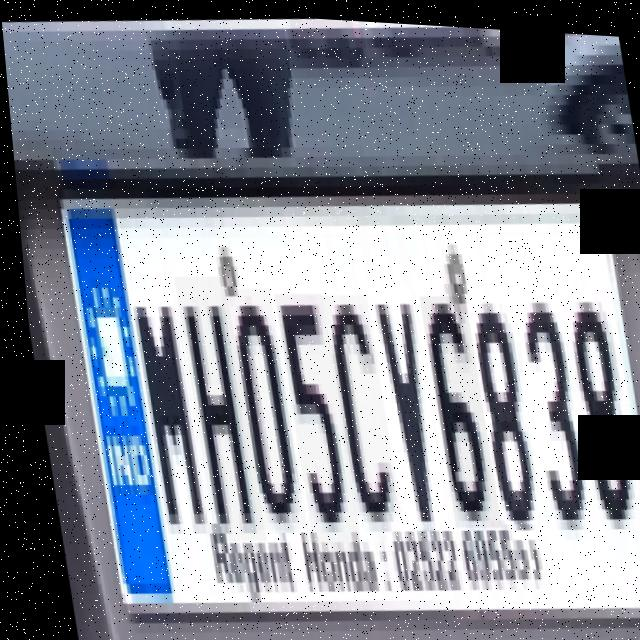0: (214, 282, 298, 529)
3: (506, 277, 585, 517)
5: (268, 287, 354, 559)
6: (414, 288, 492, 525)
8: (559, 285, 635, 535), (461, 287, 537, 520)
C: (315, 288, 392, 514)
H: (168, 271, 256, 541)
M: (122, 285, 202, 534)
V: (362, 280, 440, 526)
